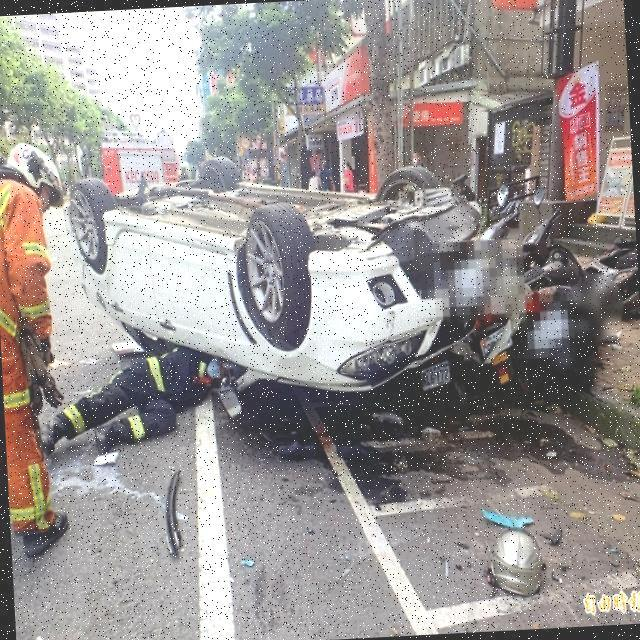accident: (46, 84, 580, 460)
